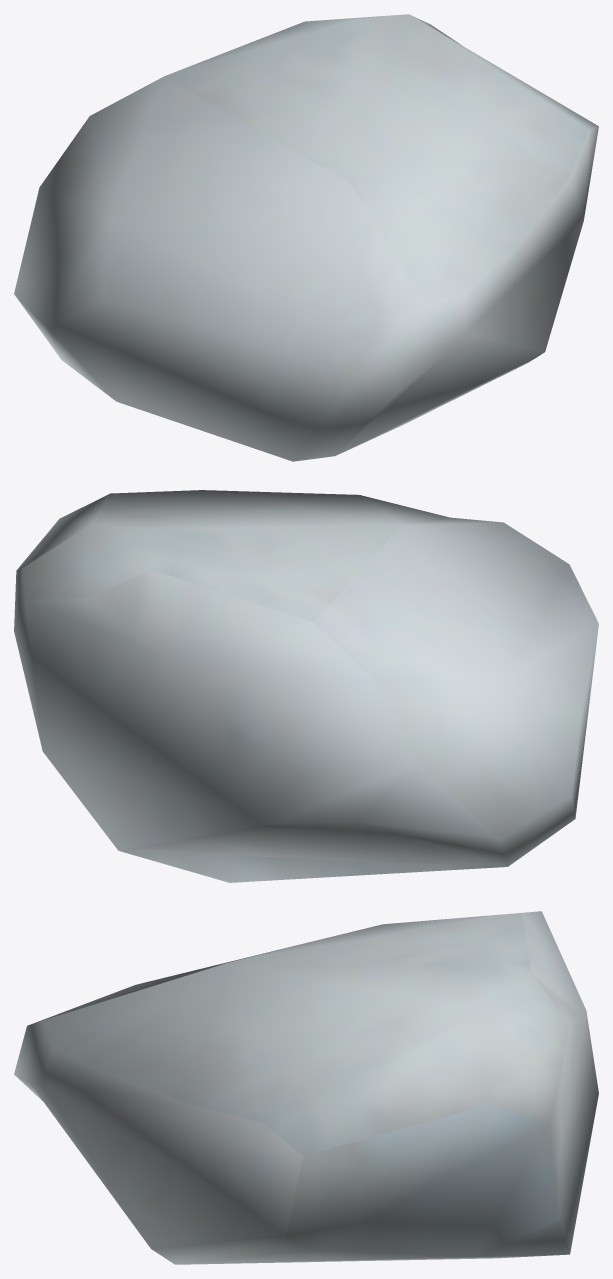
File: P_RockDesert_Rock04.obj
3 renders of one model, top to bottom at view 1: azimuth 30°, elevation 25°; view 2: azimuth 150°, elevation 25°; view 3: azimuth 270°, elevation 25°, orthographic. The views are drawn at different scales.
Size of the model in its own units: 0.8056 by 0.4531 by 0.7276.
